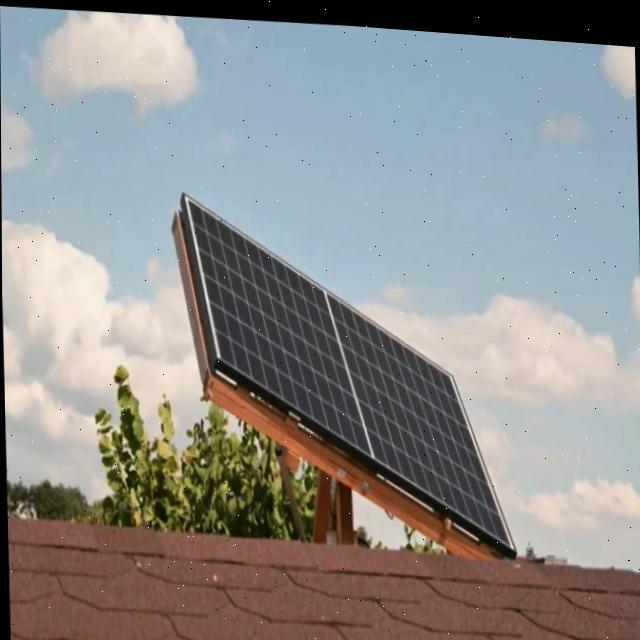Normal Solar Panel: (182, 190, 514, 553)
